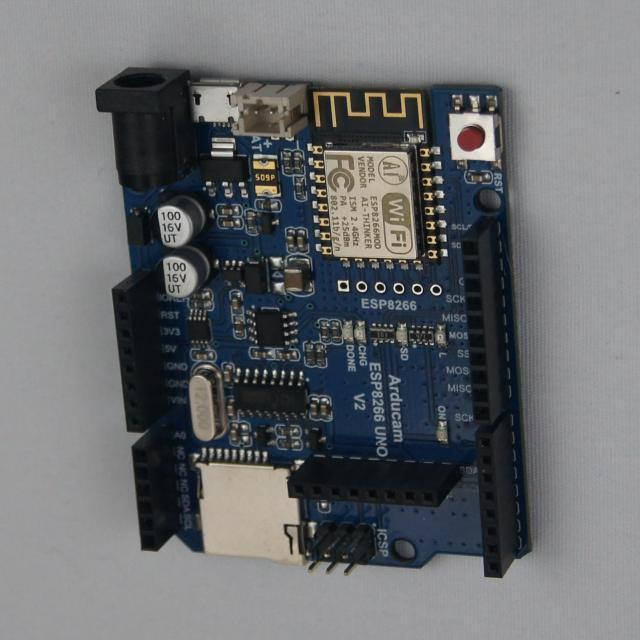Arduino Uno Camera Shield: (97, 69, 530, 577)
